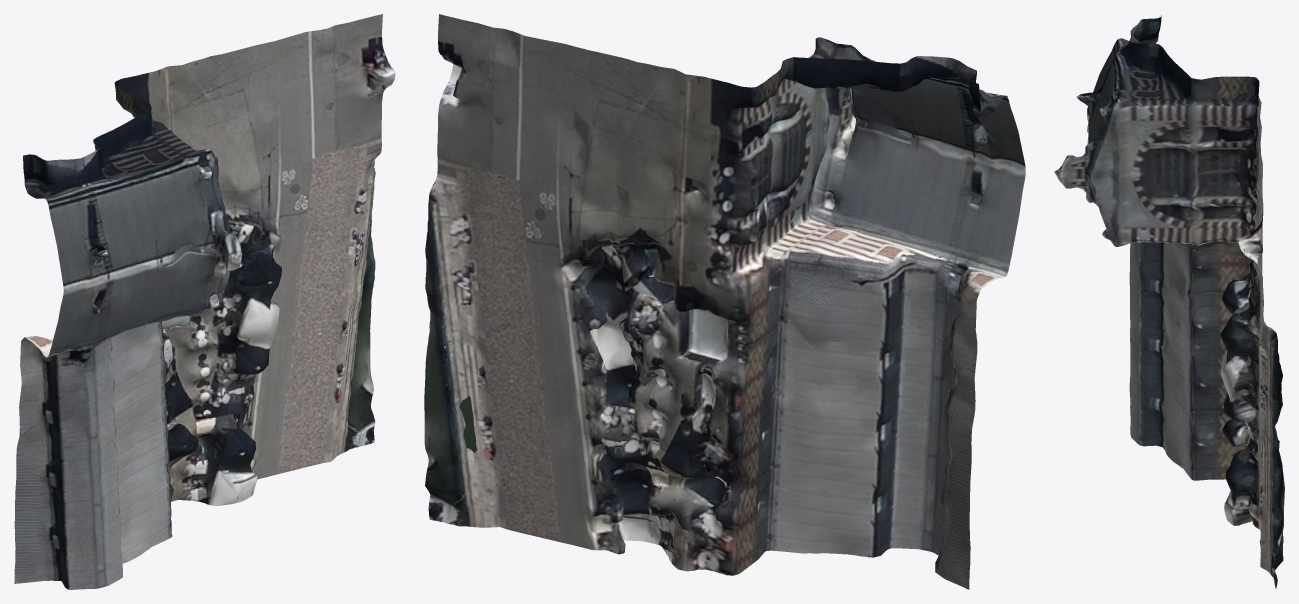
Rendered from Tile_+029_+018_L21_0012000.fbx.
3 views of the same model, side by side, from view 1: azimuth 30°, elevation 25°; view 2: azimuth 150°, elevation 25°; view 3: azimuth 270°, elevation 25° (orthographic). The views are drawn at different scales.
Parts seen in each view (by area): view 1: DefaultName; view 2: DefaultName; view 3: DefaultName.
Part boxes in pixels (left/top/right/bottom): DefaultName: left=14, top=14, right=395, bottom=589; DefaultName: left=424, top=14, right=1025, bottom=589; DefaultName: left=1054, top=15, right=1284, bottom=588.
Bounding box in the file's own units: 31.38 × 31.38 × 16.7.
1 material, 1 textured.
